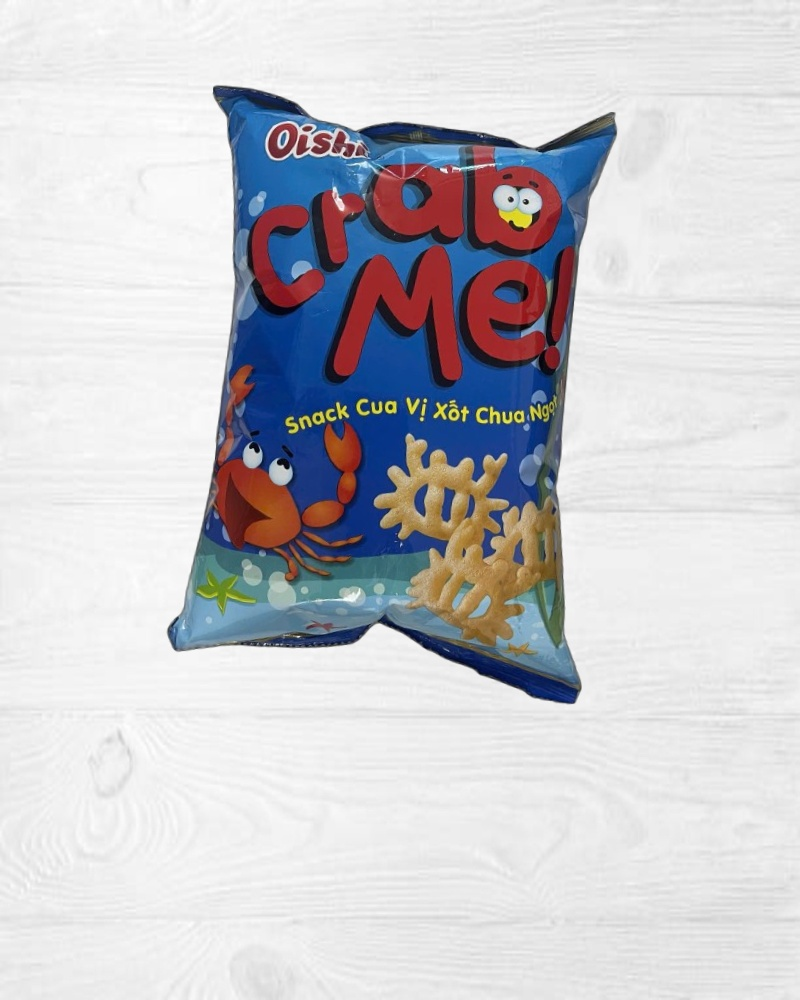Snack chay: (163, 78, 631, 707)
